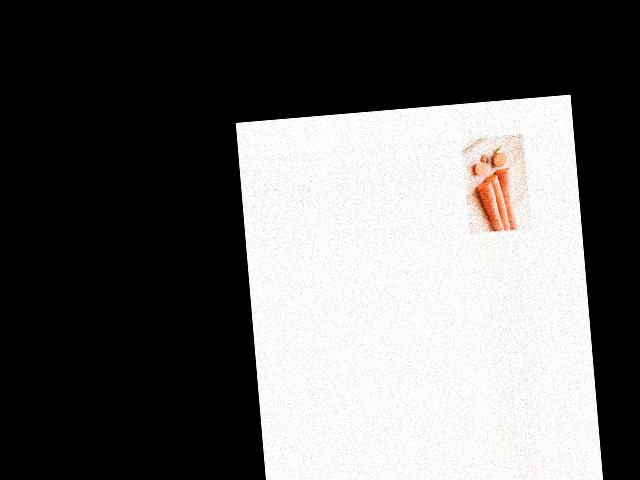carrot: (476, 174, 500, 234)
